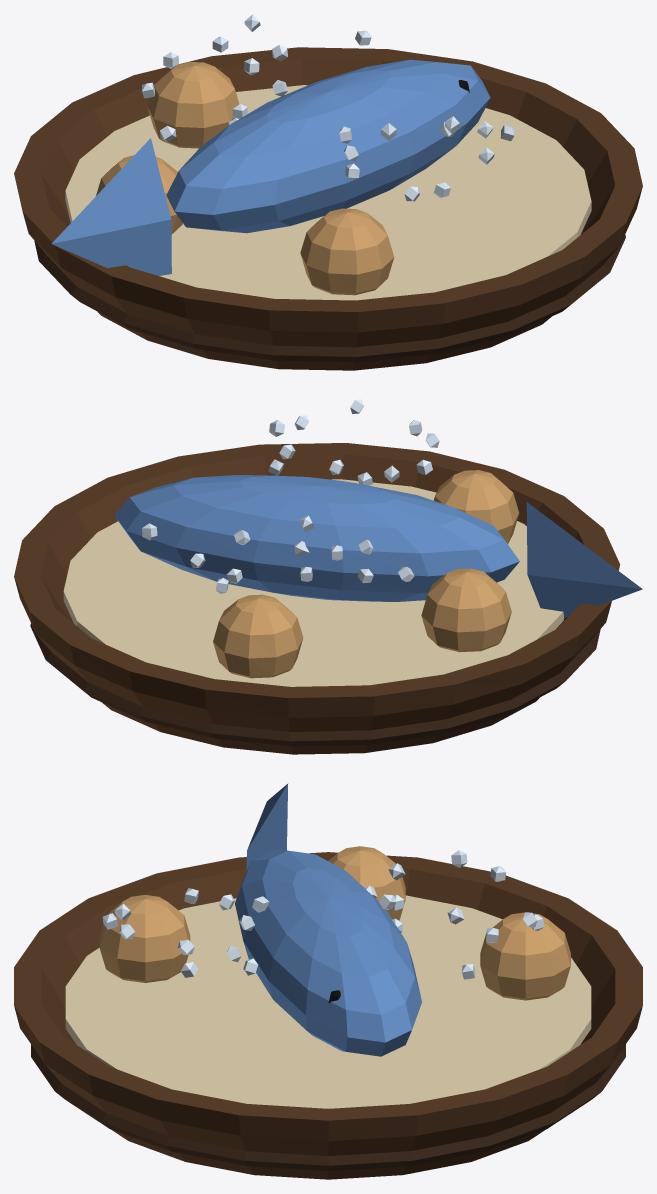
The model's file is VFP_Food_FrostFishRoast.obj.
The picture shows the model from 3 angles, top to bottom: view 1: azimuth 30°, elevation 25°; view 2: azimuth 150°, elevation 25°; view 3: azimuth 270°, elevation 25°; orthographic projection. The views are drawn at different scales.
Parts seen in each view (by area): view 1: Bowl, Fish, Fill, Onions, Bowl_wood_dark, Frost; view 2: Bowl, Fish, Fill, Onions, Bowl_wood_dark, Frost; view 3: Fill, Bowl, Fish, Onions, Bowl_wood_dark, Frost.
Part boxes in pixels (x1,y1,x2,y2): Bowl: (14, 47, 642, 370); Fish: (51, 59, 490, 275); Fill: (65, 85, 591, 300); Onions: (96, 62, 394, 295); Bowl_wood_dark: (34, 235, 625, 362); Frost: (142, 14, 514, 201); Bowl: (14, 443, 620, 754); Fish: (114, 475, 642, 618); Fill: (63, 479, 564, 686); Onions: (213, 470, 518, 678); Bowl_wood_dark: (30, 623, 600, 746); Frost: (142, 399, 439, 593); Fill: (65, 895, 591, 1108); Bowl: (14, 852, 642, 1179); Fish: (235, 783, 421, 1056); Onions: (99, 846, 570, 1000); Bowl_wood_dark: (31, 1044, 625, 1170); Frost: (102, 850, 544, 979).
Bounding box in the file's own units: 0.369 × 0.1337 × 0.3432.
